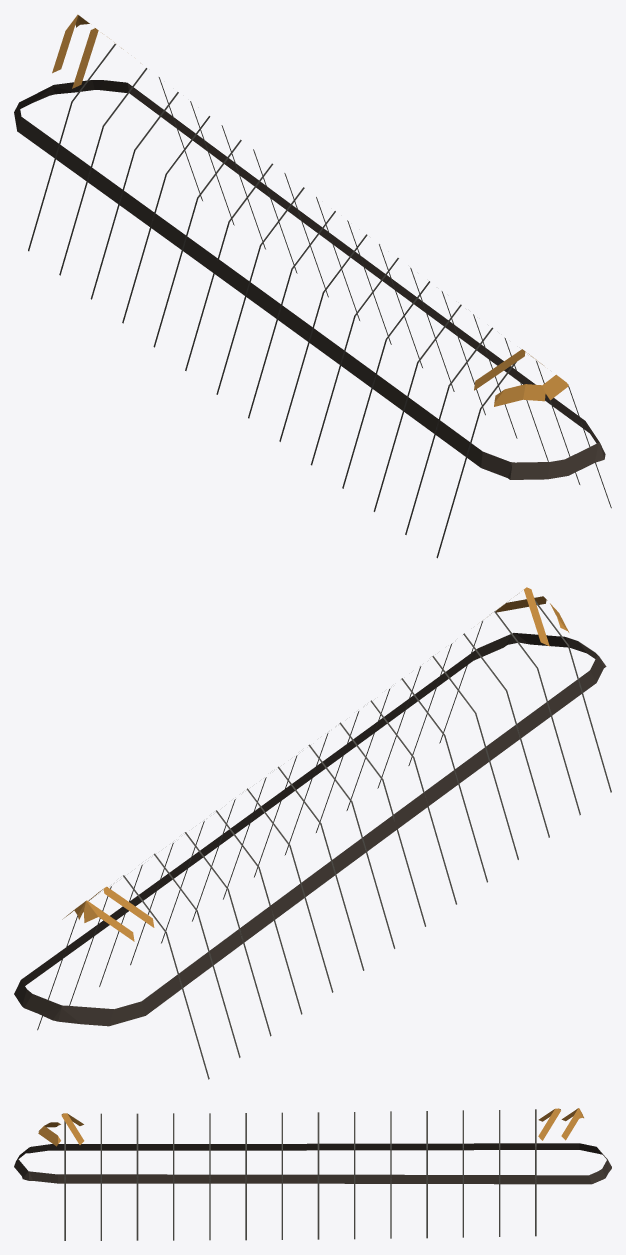
File: dam_training_wall_east_detail1.glb
3 renders of one model, top to bottom at view 1: azimuth 30°, elevation 25°; view 2: azimuth 150°, elevation 25°; view 3: azimuth 270°, elevation 25°, orthographic. The views are drawn at different scales.
Parts seen in each view (by area): view 1: dam_training_wall_east_detail1; view 2: dam_training_wall_east_detail1; view 3: dam_training_wall_east_detail1.
Boxes of the visible parts, box(x1,y1,x2,y2) form: dam_training_wall_east_detail1: box(14, 14, 611, 558); dam_training_wall_east_detail1: box(14, 587, 611, 1079); dam_training_wall_east_detail1: box(14, 1108, 611, 1240).
Bounding box in the file's own units: 8 × 8.58 × 41.29.
